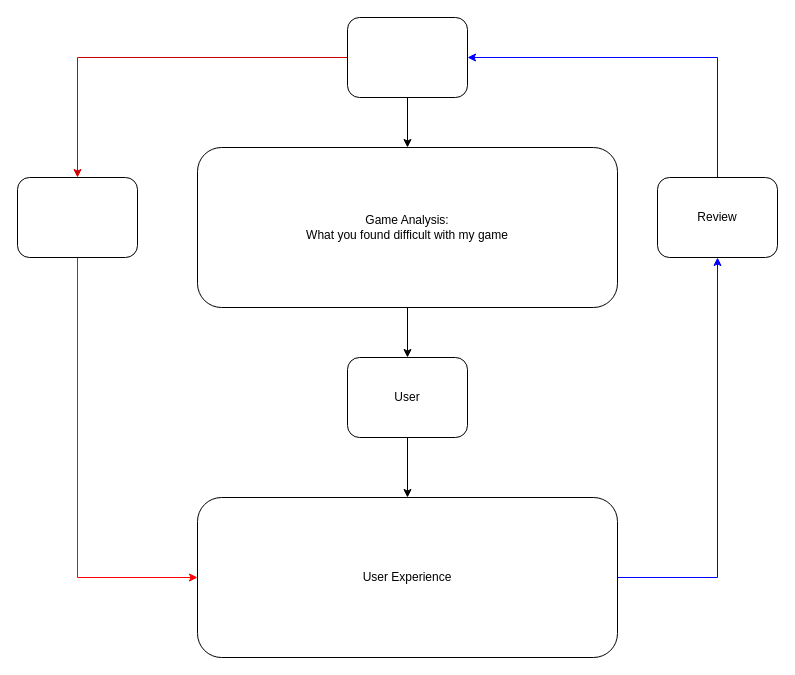
This 795x675 diagram has some shape labels left out. The box of each missing label's shape, as (x1, y1, x2, y2) in pixels:
Designer: (346, 16, 468, 98)
Response: (16, 176, 138, 258)
